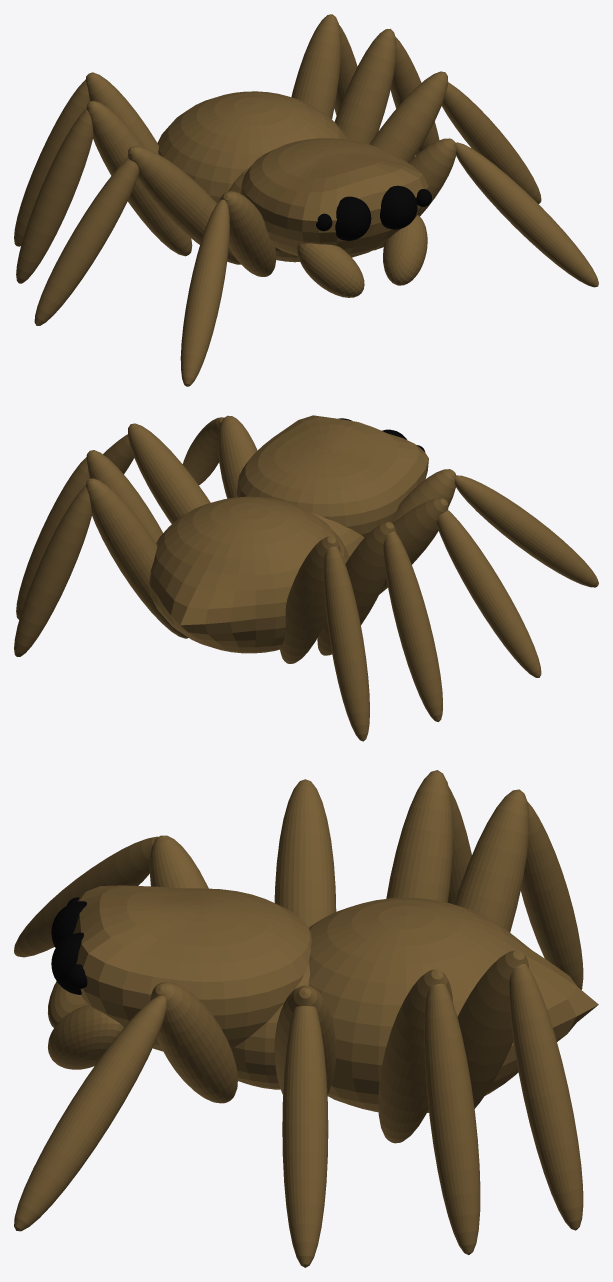
The model's file is spider.glb.
3 views of the same model, one above another, from view 1: azimuth 30°, elevation 25°; view 2: azimuth 150°, elevation 25°; view 3: azimuth 270°, elevation 25° (orthographic). The views are drawn at different scales.
Visible parts, largest first — view 1: 球.001, 球, 球.018, 球.003, 球.004, 球.007, 球.020, 球.002, 球.006, 球.017, 球.016, 球.022 (+10 smaller); view 2: 球, 球.001, 球.009, 球.007, 球.003, 球.023, 球.004, 球.022, 球.016, 球.008, 球.006, 球.021 (+7 smaller); view 3: 球.001, 球, 球.021, 球.018, 球.023, 球.017, 球.002, 球.008, 球.020, 球.006, 球.019, 球.009 (+10 smaller).
Part boxes in pixels (left/top/right/bottom): 球.001: left=240, top=138, right=428, bottom=257; 球: left=157, top=91, right=347, bottom=203; 球.018: left=456, top=142, right=598, bottom=287; 球.003: left=34, top=158, right=139, bottom=325; 球.004: left=180, top=199, right=229, bottom=386; 球.007: left=16, top=108, right=93, bottom=283; 球.020: left=334, top=28, right=396, bottom=144; 球.002: left=127, top=146, right=240, bottom=264; 球.006: left=86, top=100, right=192, bottom=256; 球.017: left=442, top=82, right=541, bottom=203; 球.016: left=369, top=71, right=448, bottom=162; 球.022: left=291, top=14, right=341, bottom=118; 球: left=149, top=496, right=349, bottom=653; 球.001: left=236, top=415, right=428, bottom=537; 球.009: left=323, top=546, right=369, bottom=741; 球.007: left=383, top=531, right=442, bottom=721; 球.003: left=436, top=510, right=541, bottom=677; 球.023: left=14, top=486, right=91, bottom=656; 球.004: left=454, top=475, right=598, bottom=587; 球.022: left=85, top=478, right=188, bottom=638; 球.016: left=127, top=423, right=210, bottom=523; 球.008: left=280, top=536, right=340, bottom=663; 球.006: left=317, top=522, right=396, bottom=655; 球.021: left=16, top=457, right=89, bottom=619; 球.001: left=73, top=885, right=311, bottom=1051; 球: left=308, top=897, right=598, bottom=1112; 球.021: left=424, top=983, right=480, bottom=1254; 球.018: left=14, top=995, right=167, bottom=1231; 球.023: left=509, top=964, right=583, bottom=1230; 球.017: left=282, top=1006, right=328, bottom=1267; 球.002: left=274, top=779, right=336, bottom=926; 球.008: left=454, top=789, right=529, bottom=932; 球.020: left=378, top=969, right=452, bottom=1143; 球.006: left=386, top=770, right=453, bottom=902; 球.019: left=150, top=982, right=237, bottom=1103; 球.009: left=520, top=801, right=583, bottom=989.
Bounding box in the file's own units: 3.9 × 1.29 × 2.82.
